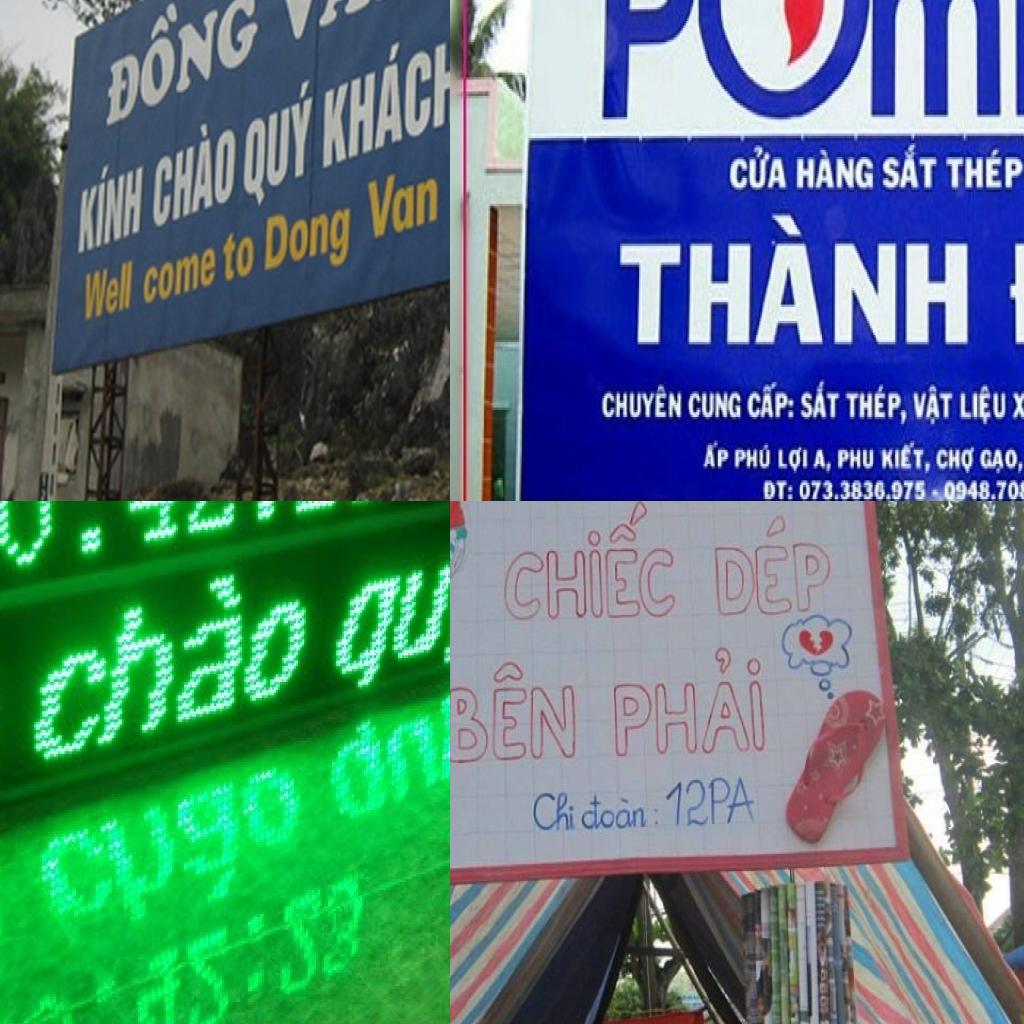text: (28, 552, 314, 784), (585, 0, 1024, 140), (607, 194, 975, 358), (0, 501, 400, 612), (328, 503, 450, 716), (317, 12, 450, 176), (105, 0, 265, 134), (504, 501, 675, 622), (613, 646, 766, 758), (450, 659, 577, 764), (713, 512, 834, 616), (238, 71, 320, 217), (150, 107, 242, 236), (268, 0, 434, 51), (75, 150, 147, 262), (261, 199, 354, 278), (360, 160, 442, 245), (792, 134, 880, 199), (139, 243, 218, 312), (663, 774, 761, 828), (939, 138, 1024, 196), (880, 136, 945, 206), (80, 256, 137, 328), (601, 380, 684, 426), (724, 140, 791, 196), (845, 380, 914, 434), (797, 475, 930, 501), (580, 793, 660, 833), (958, 380, 1009, 434), (746, 375, 795, 426), (910, 382, 956, 436), (218, 227, 256, 289), (879, 438, 934, 480), (686, 387, 746, 424), (798, 375, 842, 424), (532, 793, 577, 833), (977, 442, 1024, 480), (934, 443, 977, 480), (733, 440, 775, 476), (837, 445, 876, 476), (702, 438, 733, 476), (777, 443, 810, 478), (810, 445, 837, 478), (760, 477, 796, 501), (1010, 381, 1024, 426)
